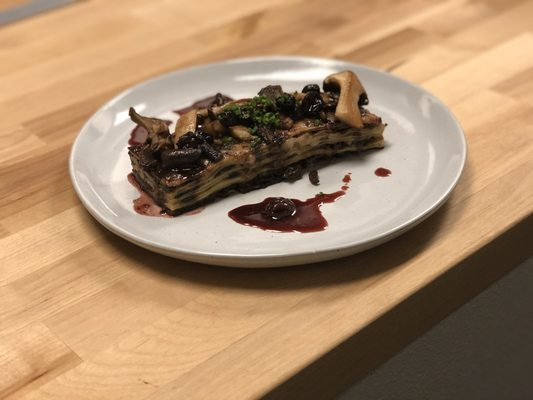curry: (126, 70, 389, 218)
